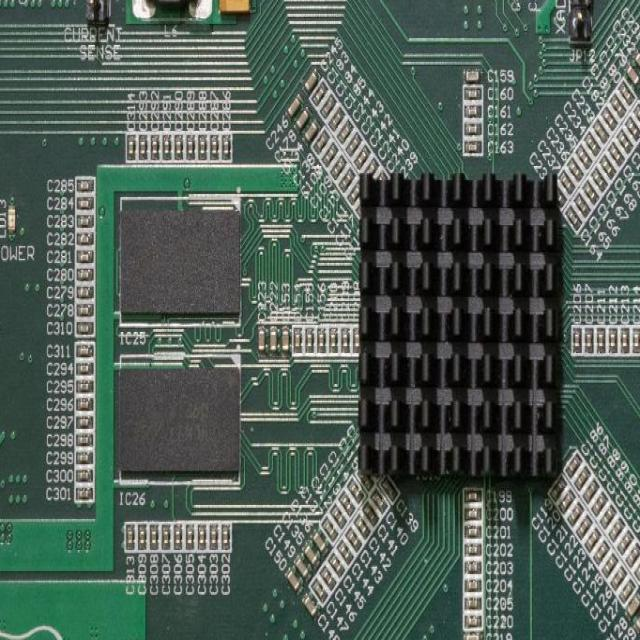IC: (119, 356, 239, 482), (120, 197, 240, 321)
LED: (7, 204, 16, 233)
capacitor: (549, 181, 567, 211), (564, 204, 583, 232), (619, 578, 638, 605), (378, 476, 399, 500), (550, 476, 568, 504), (284, 567, 302, 595), (607, 139, 625, 166), (356, 464, 374, 491), (353, 512, 371, 539), (602, 550, 620, 577), (560, 167, 576, 197), (598, 153, 616, 179), (590, 490, 608, 516), (330, 502, 348, 528), (600, 502, 618, 528), (371, 488, 388, 515), (338, 491, 356, 516), (566, 501, 584, 526), (344, 526, 362, 551), (616, 529, 634, 554), (335, 539, 353, 564), (618, 78, 634, 106), (323, 516, 339, 544), (303, 67, 320, 93), (564, 451, 581, 477), (346, 477, 363, 503), (582, 478, 599, 504), (319, 565, 336, 591), (337, 120, 355, 144), (574, 191, 590, 218), (574, 466, 592, 490), (303, 543, 321, 567), (310, 578, 326, 605), (286, 93, 303, 118), (322, 141, 339, 166), (593, 539, 610, 564), (611, 564, 628, 589), (279, 321, 291, 356), (310, 529, 326, 555), (576, 145, 593, 169), (266, 322, 278, 356), (607, 516, 624, 540), (591, 166, 606, 193), (331, 551, 346, 578), (610, 93, 626, 118), (346, 131, 362, 156), (582, 180, 598, 205), (327, 322, 339, 355), (315, 323, 327, 356), (363, 502, 378, 528), (625, 542, 640, 568), (296, 106, 312, 130), (330, 106, 346, 130), (314, 128, 330, 152), (616, 130, 632, 154), (354, 144, 370, 168), (338, 168, 354, 192), (560, 488, 576, 512), (160, 519, 172, 551), (294, 556, 310, 580), (74, 340, 94, 359), (602, 104, 616, 131), (74, 320, 95, 338), (301, 591, 316, 616), (255, 325, 267, 356), (207, 519, 219, 550), (196, 519, 208, 550), (219, 519, 231, 550), (576, 516, 592, 539), (463, 611, 482, 630), (462, 102, 482, 120), (75, 230, 95, 248), (619, 324, 631, 354), (607, 324, 619, 354), (462, 557, 482, 575), (312, 82, 328, 104), (320, 96, 336, 118), (594, 121, 610, 143), (136, 520, 147, 552), (208, 131, 220, 160), (348, 180, 363, 203), (75, 212, 94, 230), (463, 576, 482, 594), (173, 132, 184, 163), (185, 132, 196, 163), (595, 325, 606, 356), (149, 519, 160, 550), (75, 377, 95, 394), (75, 432, 95, 449), (75, 450, 95, 467), (74, 484, 94, 501), (332, 154, 346, 178), (586, 528, 600, 552), (304, 121, 319, 143), (161, 132, 172, 162), (304, 324, 315, 354), (583, 324, 594, 354), (77, 282, 95, 300), (75, 266, 94, 283), (74, 360, 93, 377), (464, 523, 483, 540), (462, 84, 482, 100), (185, 520, 195, 552), (462, 594, 482, 610), (220, 131, 231, 160), (572, 324, 583, 353), (372, 169, 387, 190), (357, 194, 372, 215), (627, 64, 640, 88), (126, 131, 136, 162), (586, 132, 600, 154), (568, 159, 582, 181), (76, 176, 94, 193), (76, 395, 94, 412), (464, 504, 483, 520), (463, 542, 482, 558), (628, 117, 640, 142), (75, 249, 95, 264), (293, 322, 303, 352), (74, 413, 94, 428), (462, 487, 482, 502), (174, 520, 184, 550), (125, 520, 135, 550), (138, 131, 148, 160), (627, 595, 640, 617), (197, 132, 207, 160), (462, 140, 482, 154), (363, 159, 377, 179), (630, 326, 640, 354), (340, 325, 349, 356), (464, 68, 482, 83), (464, 121, 482, 136), (76, 301, 94, 316), (76, 467, 94, 482), (151, 132, 160, 160), (75, 197, 94, 210), (463, 628, 483, 640), (631, 555, 640, 581), (353, 328, 360, 353), (634, 49, 640, 75), (635, 608, 640, 632), (636, 103, 640, 129)
connector: (568, 0, 590, 41), (84, 0, 109, 23)
electrolytic capacitor: (218, 0, 248, 11)
inductor: (130, 0, 213, 18)
